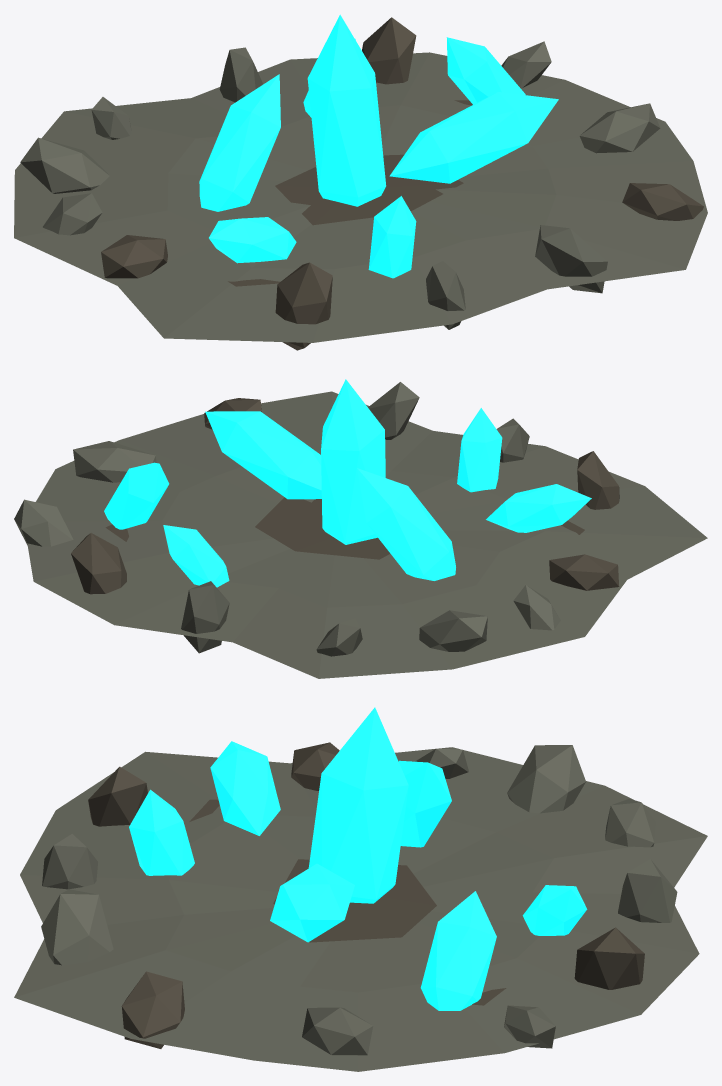
File: ff_ore_01_v1.glb
3 renders of one model, top to bottom at view 1: azimuth 30°, elevation 25°; view 2: azimuth 150°, elevation 25°; view 3: azimuth 270°, elevation 25°, orthographic. The views are drawn at different scales.
Visible parts, largest first — view 1: FF_ORE_01_M_FieldEarth_runtime, FF_ORE_01_M_Huijing_runtime, FF_ORE_01_M_ScorchedEarth_runtime; view 2: FF_ORE_01_M_FieldEarth_runtime, FF_ORE_01_M_Huijing_runtime, FF_ORE_01_M_ScorchedEarth_runtime; view 3: FF_ORE_01_M_FieldEarth_runtime, FF_ORE_01_M_Huijing_runtime, FF_ORE_01_M_ScorchedEarth_runtime.
Boxes of the visible parts, x1,y1,x2,y2 form: FF_ORE_01_M_FieldEarth_runtime: [14, 41, 707, 342]; FF_ORE_01_M_Huijing_runtime: [199, 14, 558, 278]; FF_ORE_01_M_ScorchedEarth_runtime: [101, 17, 703, 350]; FF_ORE_01_M_FieldEarth_runtime: [14, 382, 707, 678]; FF_ORE_01_M_Huijing_runtime: [104, 379, 591, 587]; FF_ORE_01_M_ScorchedEarth_runtime: [71, 398, 619, 594]; FF_ORE_01_M_FieldEarth_runtime: [14, 745, 707, 1071]; FF_ORE_01_M_Huijing_runtime: [129, 707, 587, 1010]; FF_ORE_01_M_ScorchedEarth_runtime: [88, 742, 644, 1048].
Size of the model in its own units: 9.17 by 3.23 by 8.3.
